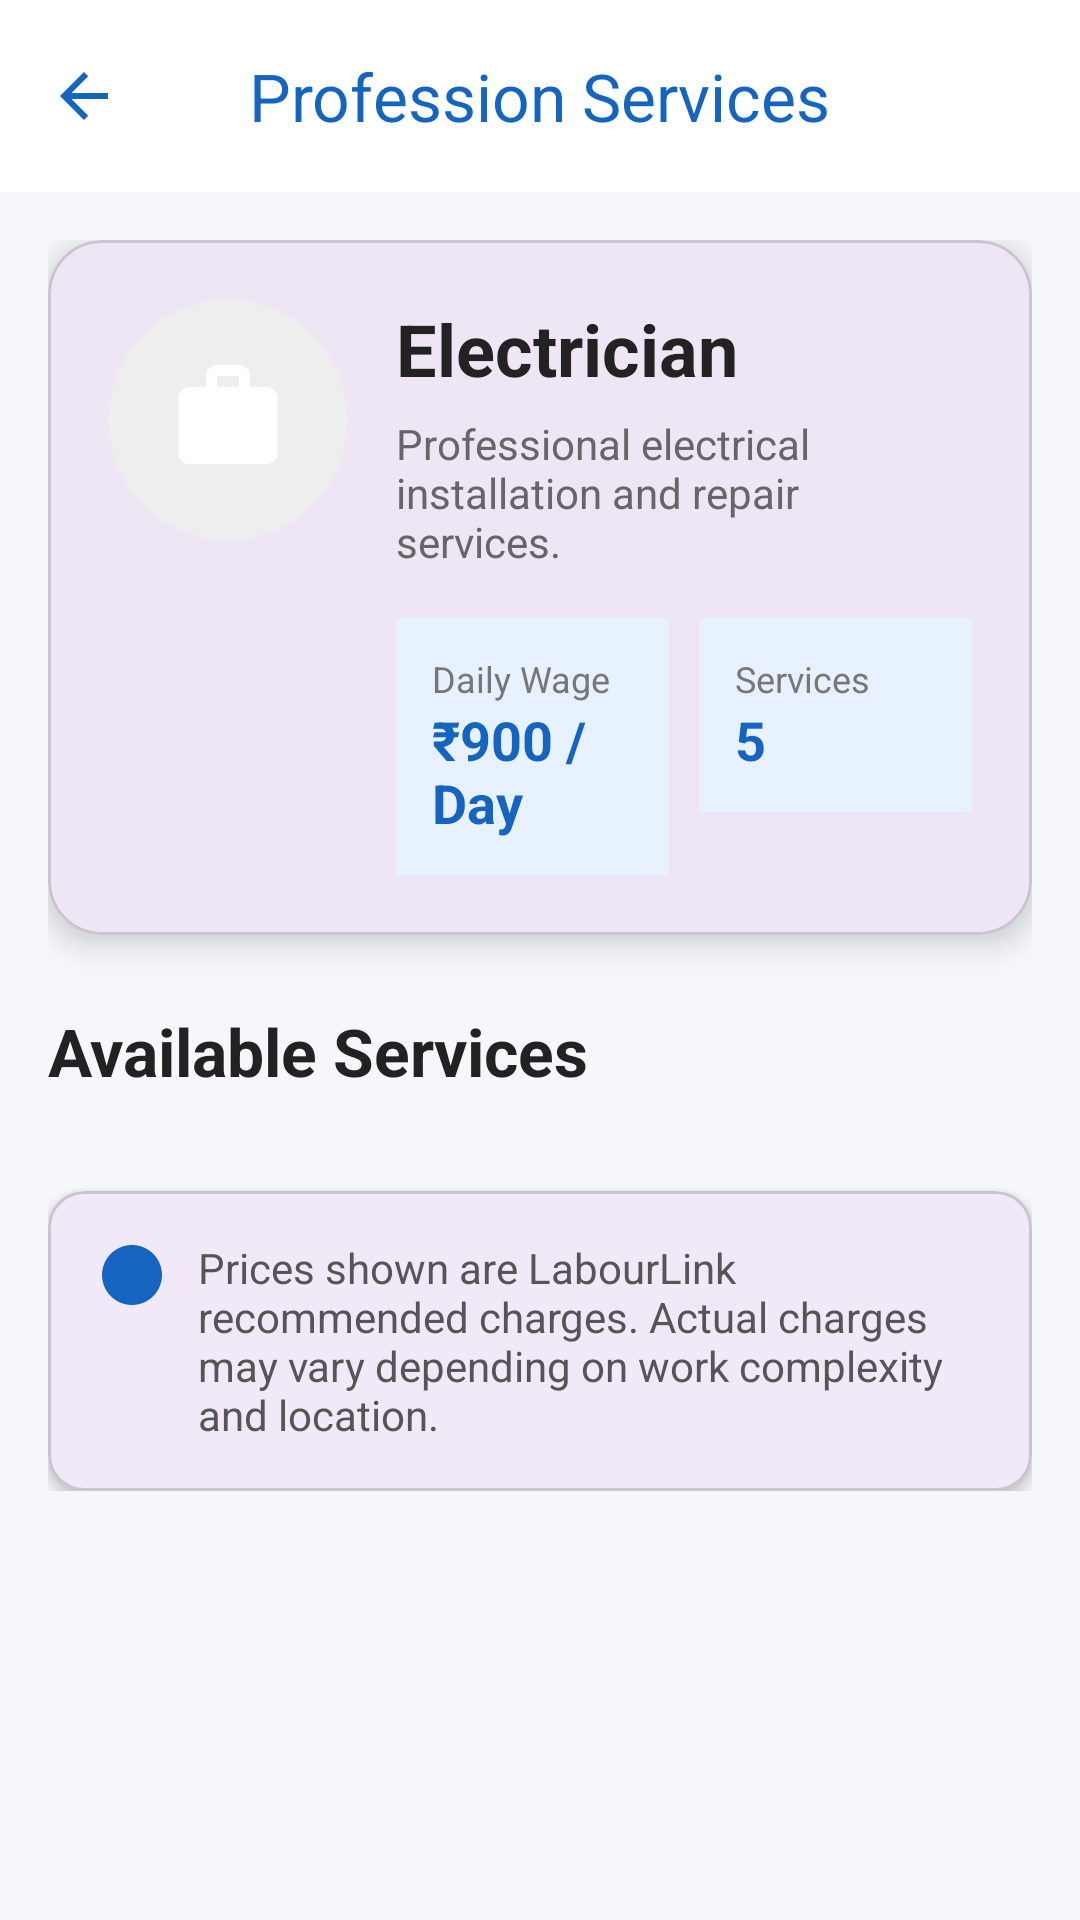

Named icons in this screenshot (1080×1920) and their centers, [x,y]:
work: [228,414]
